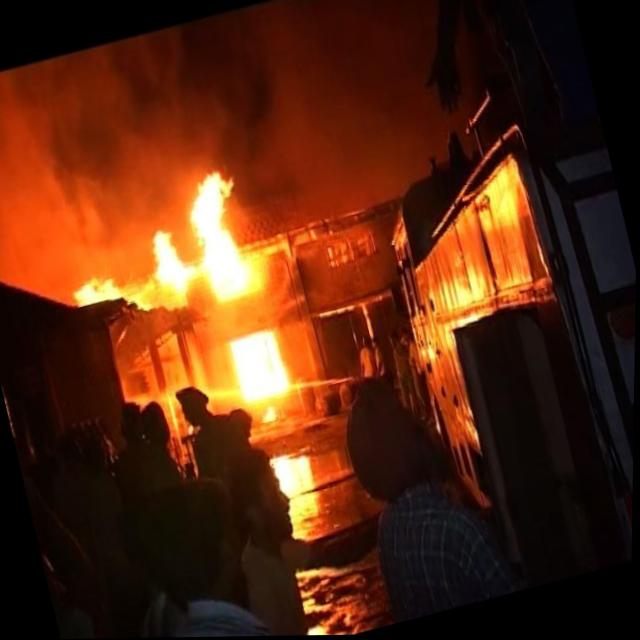fire: (167, 155, 306, 437), (136, 220, 203, 315), (61, 262, 148, 323)
